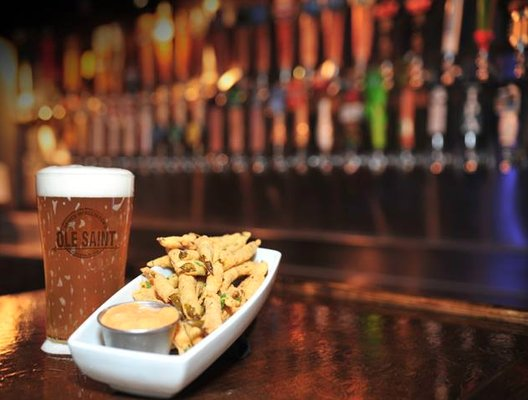pizza: (36, 165, 135, 355)
sushi: (66, 232, 283, 396)
